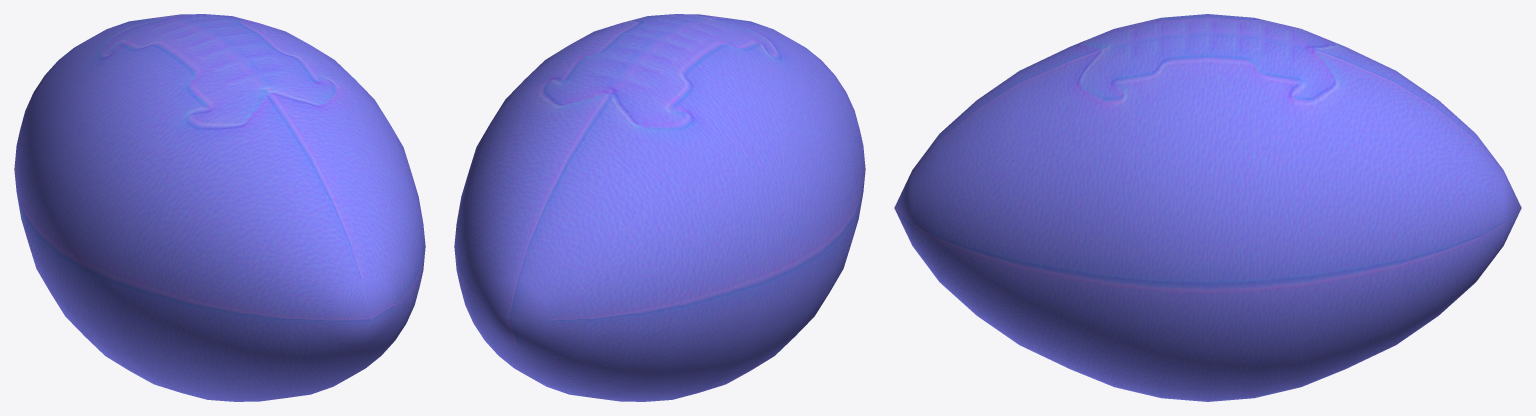
Rendered from American_Football.glb.
3 renders of one model, left to right at view 1: azimuth 30°, elevation 25°; view 2: azimuth 150°, elevation 25°; view 3: azimuth 270°, elevation 25°, orthographic. The views are drawn at different scales.
Parts seen in each view (by area): view 1: American_Football; view 2: American_Football; view 3: American_Football.
Boxes of the visible parts, x1,y1,x2,y2 form: American_Football: [14, 14, 425, 401]; American_Football: [454, 14, 865, 401]; American_Football: [894, 14, 1521, 401].
Bounding box in the file's own units: 2 × 2 × 3.23.
Materials: 1 (1 with a texture image).
